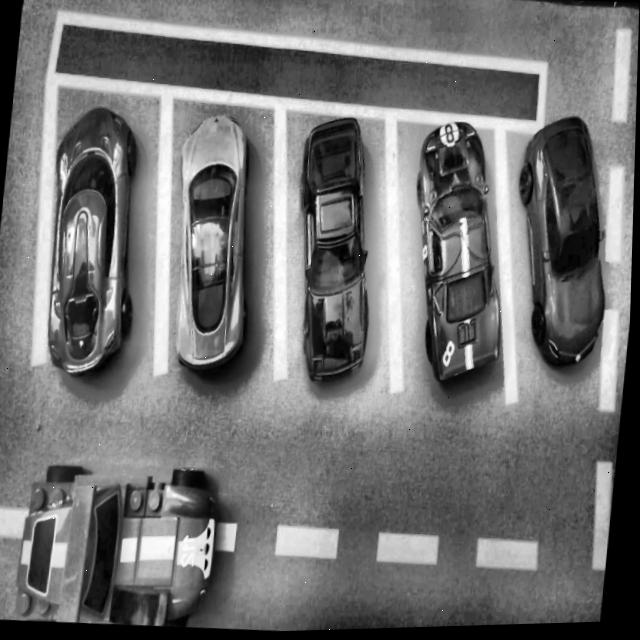car: (9, 444, 236, 634), (398, 121, 522, 390), (501, 115, 624, 376), (36, 104, 152, 380), (281, 115, 390, 389), (161, 113, 267, 376)
